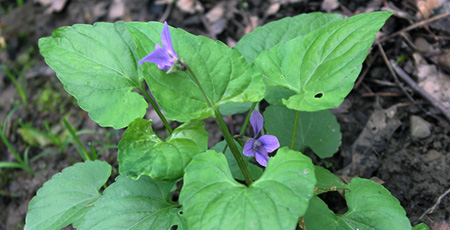violet: (136, 24, 187, 88), (241, 110, 279, 169)
